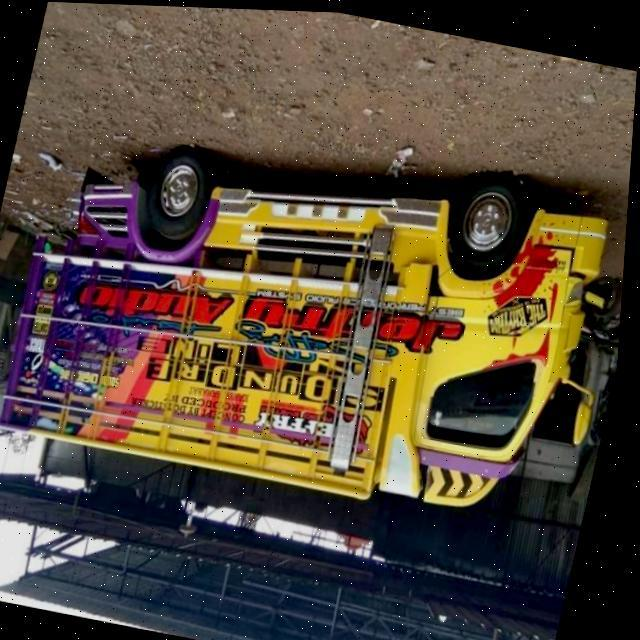truck: (0, 83, 636, 536)
